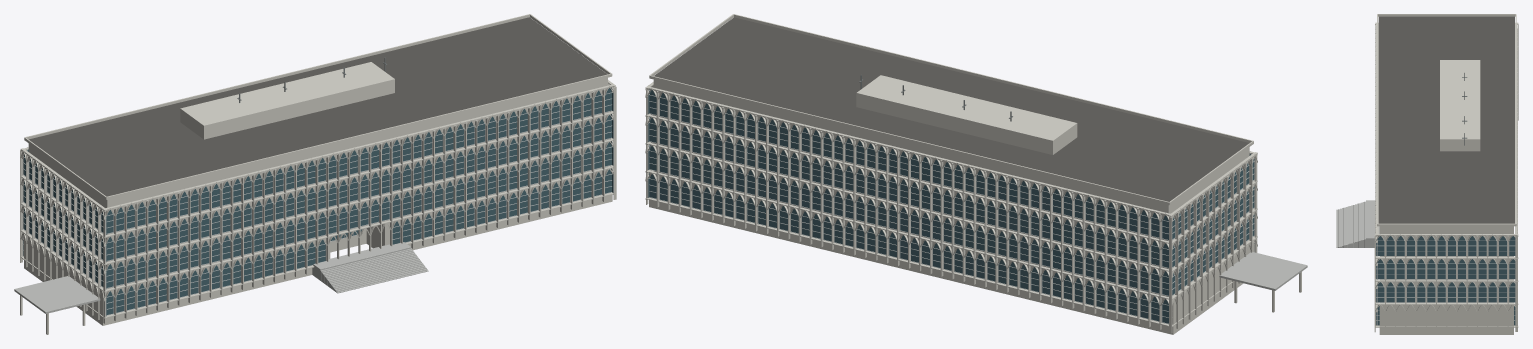
3 views of the same model, side by side, from view 1: azimuth 30°, elevation 25°; view 2: azimuth 150°, elevation 25°; view 3: azimuth 270°, elevation 25° (orthographic). The views are drawn at different scales.
Visible parts, largest first — view 1: front-arched-glass__blue, roof-estimated__roof, front-arched-grid__light, front-inset-windows__frame, upper-mass__light, rooftop-room-estimated__light, front-courses__light, ground-wing__light, side-west-estimated-arched-grid__light, roof-estimated__light, front-stair__concrete, side-west-estimated-arched-glass__blue (+5 smaller); view 2: rear-estimated-arched-glass__blue, roof-estimated__roof, rear-estimated-arched-grid__light, rear-estimated-inset-windows__frame, upper-mass__light, rooftop-room-estimated__light, rear-estimated-courses__light, side-west-estimated-arched-grid__light, ground-wing__light, roof-estimated__light, side-west-estimated-arched-glass__blue, annex-canopy-estimated__concrete (+3 smaller); view 3: roof-estimated__roof, side-east-estimated-arched-glass__blue, ground-wing__light, rooftop-room-estimated__light, upper-mass__light, side-east-estimated-arched-grid__light, side-east-estimated-inset-windows__frame, roof-estimated__light, side-east-estimated-courses__light, front-stair__concrete, rear-estimated-courses__light, rear-estimated-arched-grid__light (+3 smaller).
Part boxes in pixels (left/top/right/bottom): front-arched-glass__blue: left=106, top=88, right=611, bottom=314; roof-estimated__roof: left=29, top=17, right=607, bottom=196; front-arched-grid__light: left=103, top=86, right=614, bottom=323; front-inset-windows__frame: left=106, top=92, right=612, bottom=315; upper-mass__light: left=28, top=77, right=607, bottom=288; rooftop-room-estimated__light: left=180, top=62, right=394, bottom=139; front-courses__light: left=104, top=84, right=614, bottom=317; ground-wing__light: left=24, top=166, right=612, bottom=325; side-west-estimated-arched-grid__light: left=20, top=150, right=106, bottom=319; roof-estimated__light: left=24, top=14, right=612, bottom=199; front-stair__concrete: left=318, top=245, right=428, bottom=293; side-west-estimated-arched-glass__blue: left=23, top=154, right=103, bottom=286; rear-estimated-arched-glass__blue: left=649, top=90, right=1168, bottom=323; roof-estimated__roof: left=654, top=17, right=1249, bottom=201; rear-estimated-arched-grid__light: left=646, top=88, right=1169, bottom=329; rear-estimated-inset-windows__frame: left=649, top=94, right=1168, bottom=324; upper-mass__light: left=653, top=79, right=1249, bottom=296; rooftop-room-estimated__light: left=856, top=75, right=1077, bottom=154; rear-estimated-courses__light: left=647, top=86, right=1171, bottom=326; side-west-estimated-arched-grid__light: left=1169, top=154, right=1257, bottom=333; ground-wing__light: left=649, top=170, right=1254, bottom=334; roof-estimated__light: left=649, top=14, right=1253, bottom=204; side-west-estimated-arched-glass__blue: left=1172, top=158, right=1254, bottom=294; annex-canopy-estimated__concrete: left=1219, top=252, right=1307, bottom=290; roof-estimated__roof: left=1378, top=16, right=1514, bottom=223; side-east-estimated-arched-glass__blue: left=1376, top=236, right=1515, bottom=325; ground-wing__light: left=1379, top=302, right=1513, bottom=334; rooftop-room-estimated__light: left=1440, top=60, right=1480, bottom=151; upper-mass__light: left=1379, top=226, right=1513, bottom=302; side-east-estimated-arched-grid__light: left=1374, top=234, right=1518, bottom=332; side-east-estimated-inset-windows__frame: left=1376, top=240, right=1515, bottom=325; roof-estimated__light: left=1377, top=14, right=1516, bottom=226; side-east-estimated-courses__light: left=1375, top=234, right=1518, bottom=327; front-stair__concrete: left=1336, top=200, right=1369, bottom=247; rear-estimated-courses__light: left=1515, top=23, right=1517, bottom=326; rear-estimated-arched-grid__light: left=1515, top=25, right=1517, bottom=331.
Size of the model in its own units: 124 by 31.6 by 40.81.
